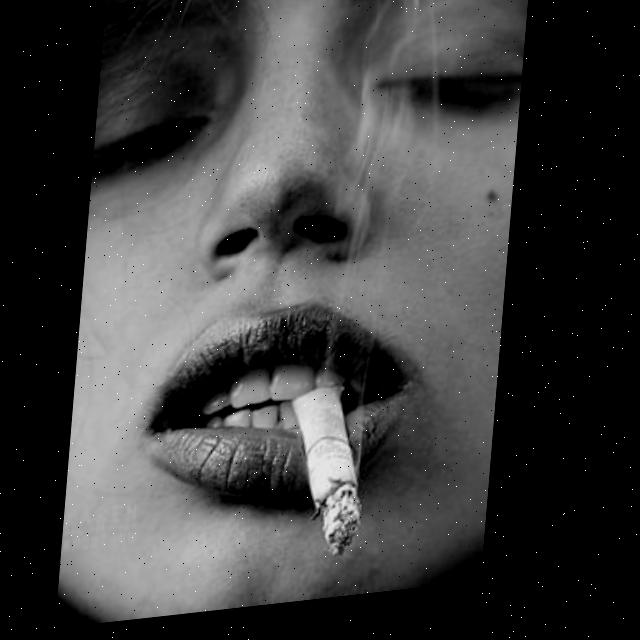cigarette: (293, 394, 378, 564)
